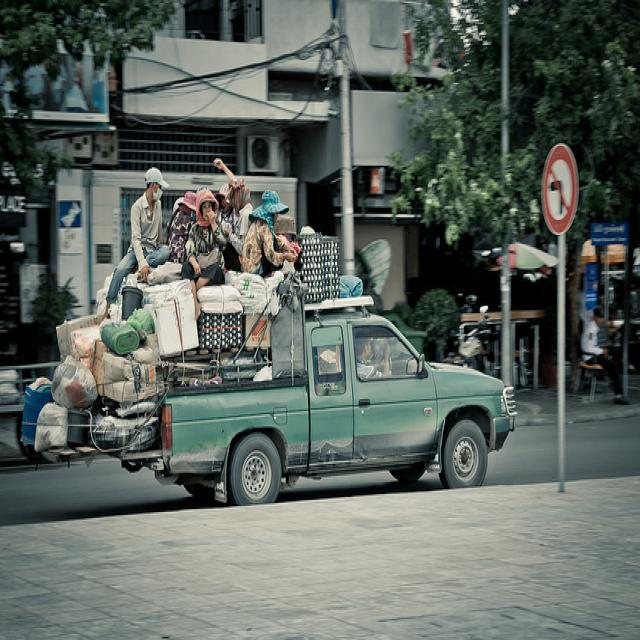Vehicle: (33, 297, 515, 508)
